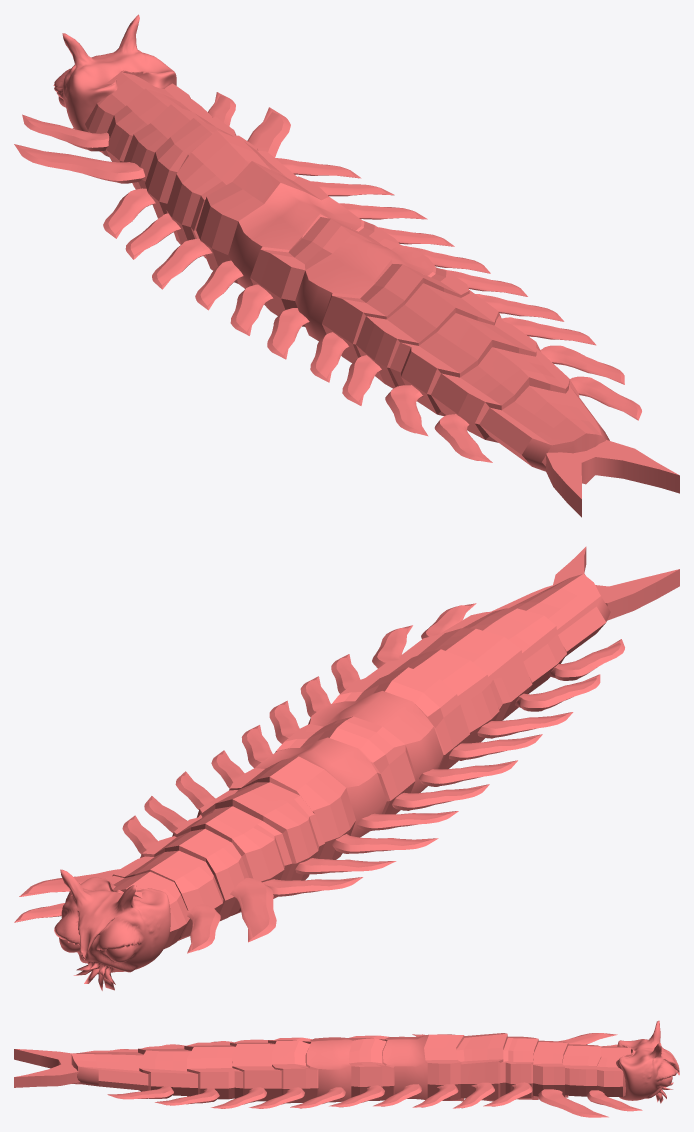
File: Monster Texture Final (1).fbx
3 views of the same model, one above another, from view 1: azimuth 30°, elevation 25°; view 2: azimuth 150°, elevation 25°; view 3: azimuth 270°, elevation 25° (orthographic). The views are drawn at different scales.
Parts seen in each view (by area): view 1: Centipede; view 2: Centipede; view 3: Centipede.
Boxes of the visible parts, <box> form: Centipede: <box>14,14,679,517</box>; Centipede: <box>14,546,679,990</box>; Centipede: <box>14,1020,679,1117</box>.
Size of the model in its own units: 60.88 by 26.98 by 215.
